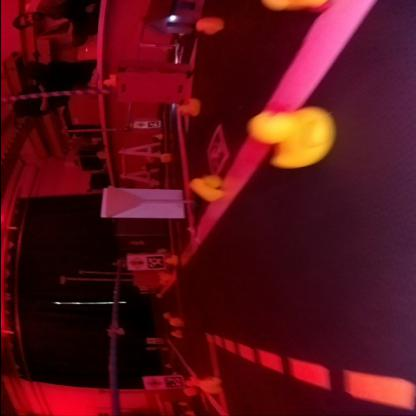Duckie: (249, 107, 313, 166), (188, 179, 219, 201), (195, 18, 222, 34), (177, 98, 196, 115), (164, 256, 178, 263), (168, 318, 180, 325), (170, 329, 180, 337)
Intersection sign: (143, 376, 161, 390)
QR code: (204, 122, 228, 172), (146, 254, 160, 269), (165, 376, 181, 388)
